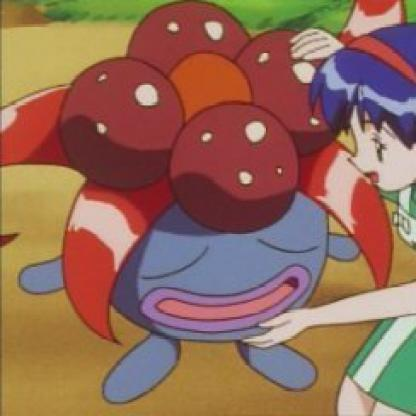Gloom: (1, 1, 356, 395)
